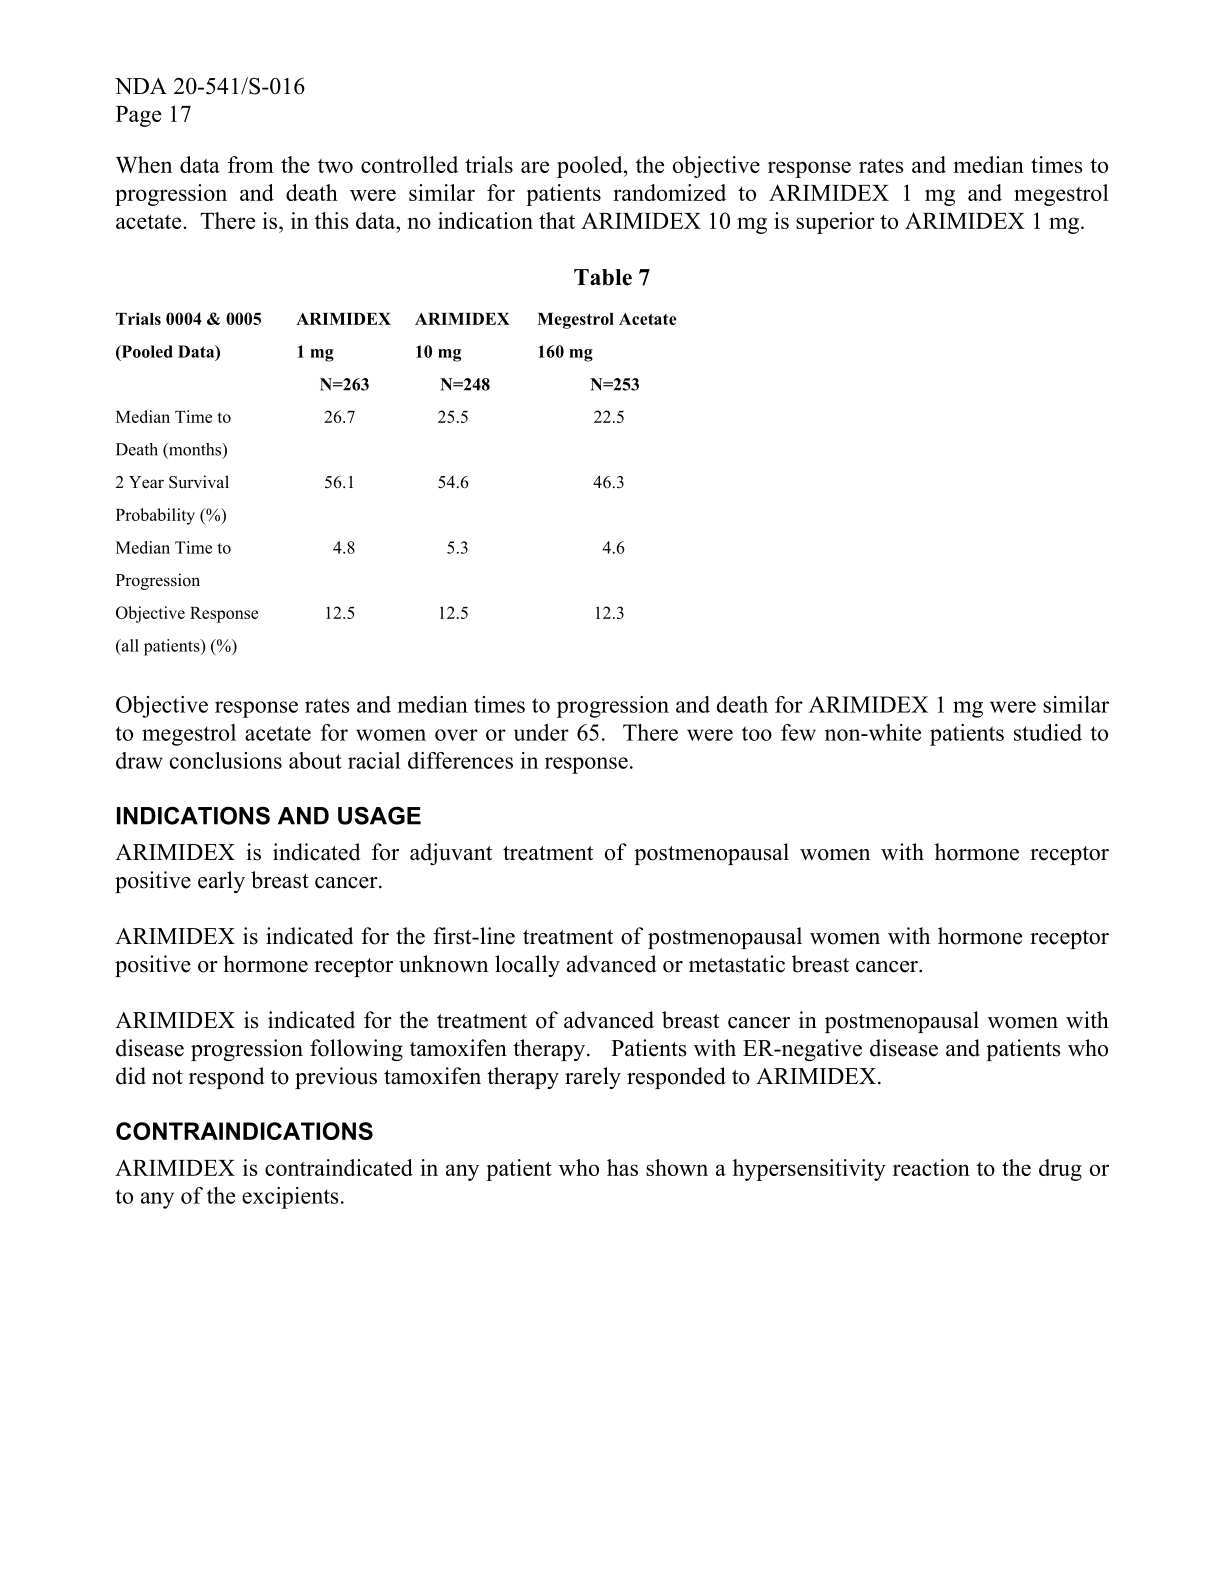nolines: (111, 303, 680, 624)
